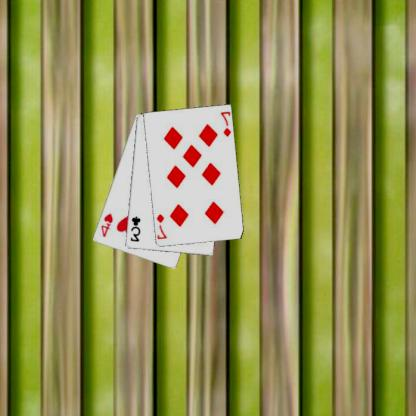3C: (129, 214, 143, 243)
4H: (100, 211, 116, 238)
7D: (219, 109, 233, 138), (156, 211, 169, 240)
